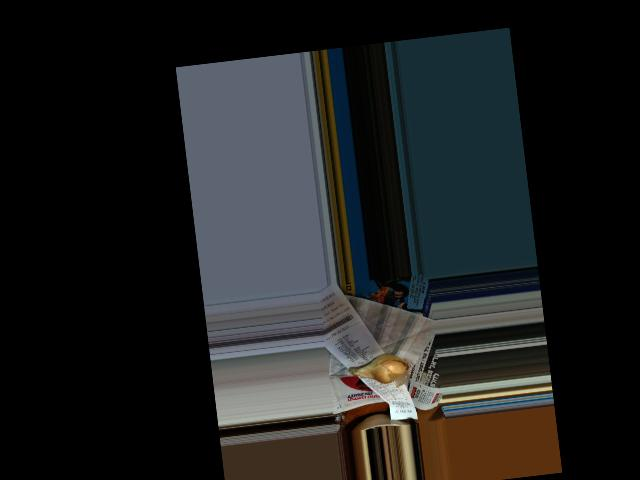onion: (354, 350, 408, 384)
